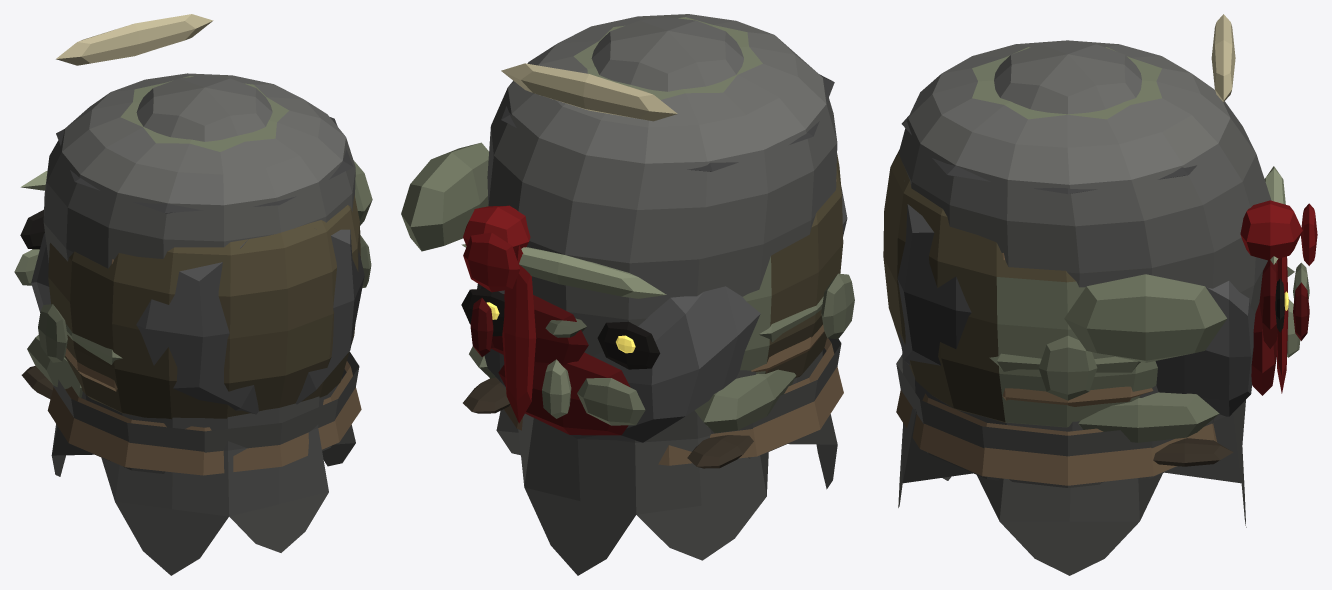
The model's file is child_hi.glb.
The picture shows the model from 3 angles, left to right: view 1: azimuth 30°, elevation 25°; view 2: azimuth 150°, elevation 25°; view 3: azimuth 270°, elevation 25°; orthographic projection. The views are drawn at different scales.
Visible parts, largest first — view 1: torso, head, footR, shinR, uArmDeltR, uArmR, headJaw, handR, hips; view 2: torso, head, handR, footR, headJaw, uArmDeltR, shinR, fArmR, torsoBelly, thighR, uArmR, hips; view 3: torso, head, handR, footR, shinR, uArmDeltR, uArmR, torsoBelly, hips, headJaw, fArmR, thighR.
Part boxes in pixels (x1=…): torso: x1=14, y1=73, x2=355, y2=575; head: x1=20, y1=170, x2=371, y2=419; footR: x1=31, y1=228, x2=364, y2=414; shinR: x1=47, y1=361, x2=361, y2=475; uArmDeltR: x1=136, y1=75, x2=272, y2=141; uArmR: x1=53, y1=352, x2=359, y2=473; headJaw: x1=56, y1=14, x2=213, y2=65; handR: x1=21, y1=160, x2=372, y2=399; hips: x1=56, y1=117, x2=353, y2=391; torso: x1=463, y1=14, x2=837, y2=575; head: x1=461, y1=153, x2=854, y2=418; handR: x1=401, y1=142, x2=823, y2=468; footR: x1=477, y1=187, x2=847, y2=442; headJaw: x1=501, y1=63, x2=677, y2=423; uArmDeltR: x1=591, y1=17, x2=743, y2=91; shinR: x1=504, y1=338, x2=843, y2=465; fArmR: x1=498, y1=352, x2=630, y2=435; torsoBelly: x1=463, y1=205, x2=586, y2=337; thighR: x1=491, y1=294, x2=588, y2=365; uArmR: x1=710, y1=338, x2=841, y2=458; hips: x1=501, y1=74, x2=836, y2=372; torso: x1=898, y1=40, x2=1317, y2=575; head: x1=883, y1=149, x2=1300, y2=427; handR: x1=989, y1=274, x2=1233, y2=466; footR: x1=897, y1=204, x2=1255, y2=416; shinR: x1=896, y1=390, x2=1217, y2=485; uArmDeltR: x1=994, y1=41, x2=1141, y2=114; uArmR: x1=896, y1=354, x2=1213, y2=487; torsoBelly: x1=1240, y1=200, x2=1302, y2=276; hips: x1=901, y1=116, x2=1196, y2=406; headJaw: x1=1211, y1=14, x2=1288, y2=393; fArmR: x1=1251, y1=303, x2=1276, y2=395; thighR: x1=1259, y1=260, x2=1277, y2=348.
Size of the model in its own units: 1.13 by 1.39 by 1.12.
